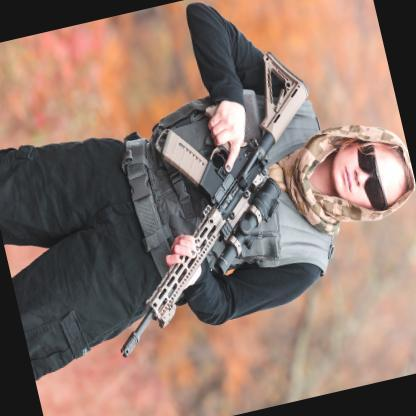rifle: (56, 44, 368, 358)
